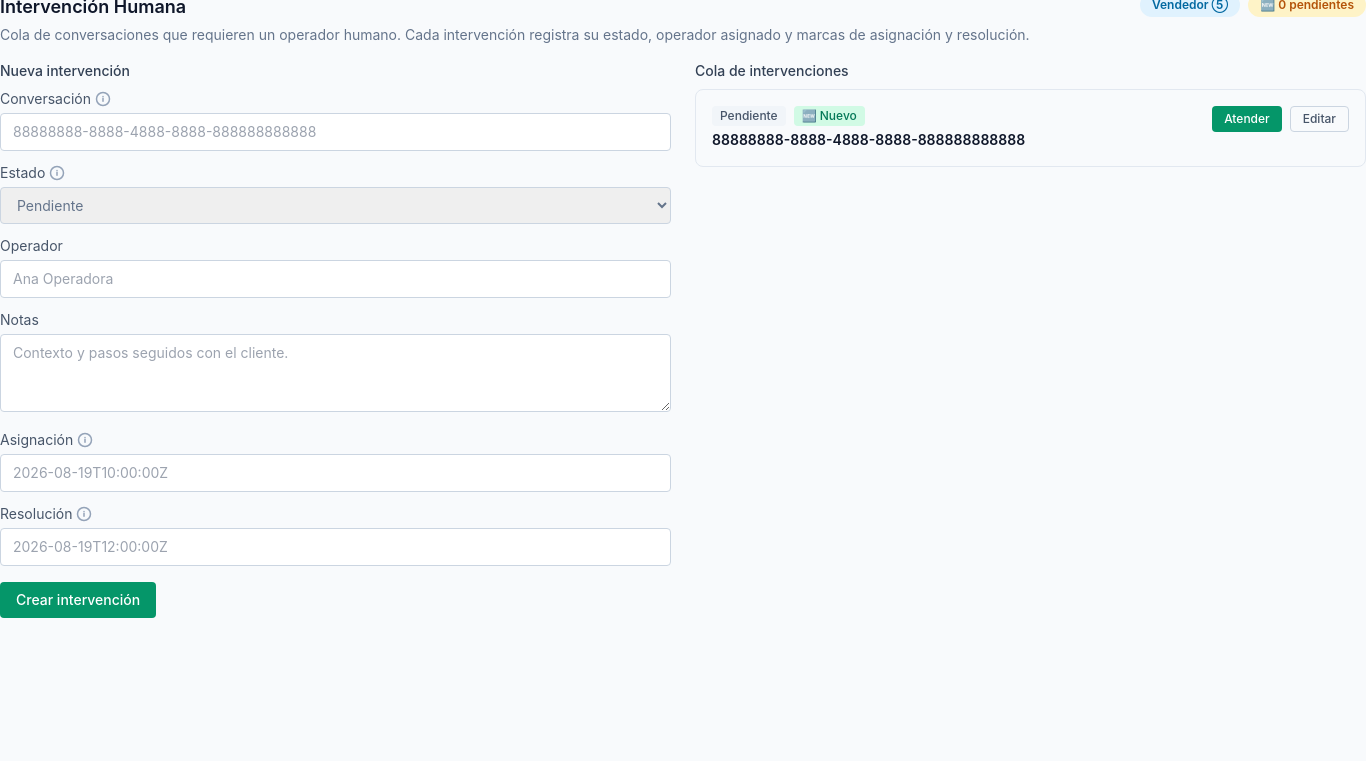
Test: InterventionsSection › abre el espacio de atención y carga los mensajes de la conversación
The image size is (1366, 761).
Expected: the heading "88888888-8888-4888-8888-888888888888" is shown, [712,130,1025,150]
Click the button "Atender": (1247, 119) [1212,106,1282,132]
(page scrolled)
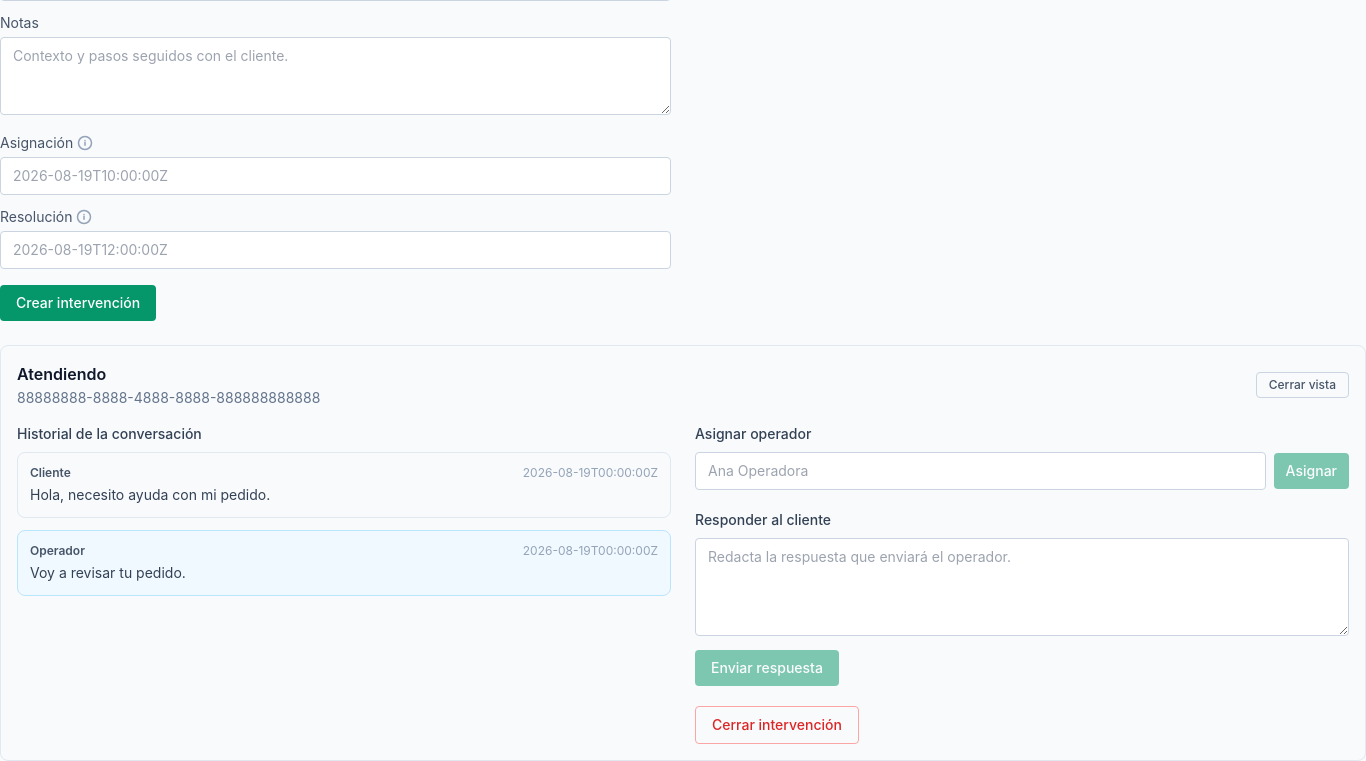
Now the heading "Atendiendo" is shown, box [17,364,106,384]
Now the text "Hola, necesito ayuda con mi pedido." is shown, box [30,486,270,503]
Now the text "Voy a revisar tu pedido." is shown, box [30,564,186,581]
